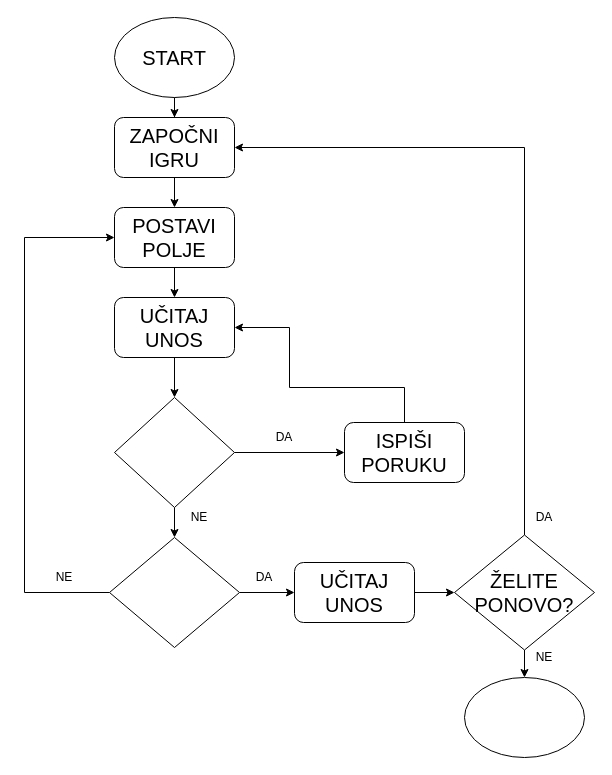
The diagram is 612 pixels wide and 775 high, and some of its shapes have lost their labels. Here are the shapes that lost their labels. From the top down, the box of each, then its label:
(114, 396, 234, 508): PAUZA ?
(108, 536, 240, 648): KRAJ?
(464, 676, 584, 758): KRAJ
